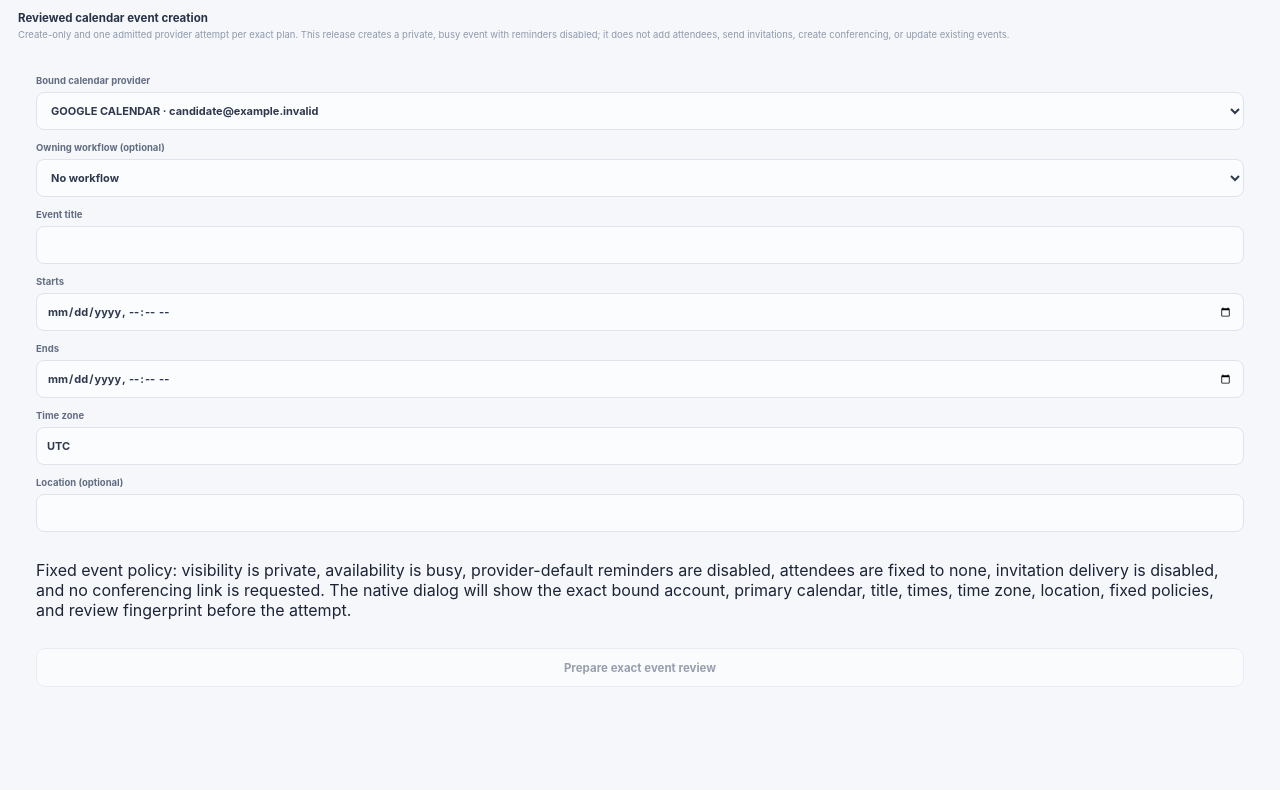
Test case: calendar event panel › requires native review and reports provider acceptance without claiming read-back
Select "Example employer · Software Engineer · workflow-1" in the dropdown labelled "Owning workflow (optional)": (640, 178) [36, 159, 1244, 197]
In the field labelled "Event title": (640, 245) [36, 226, 1244, 264], type "Interview with Example Co"
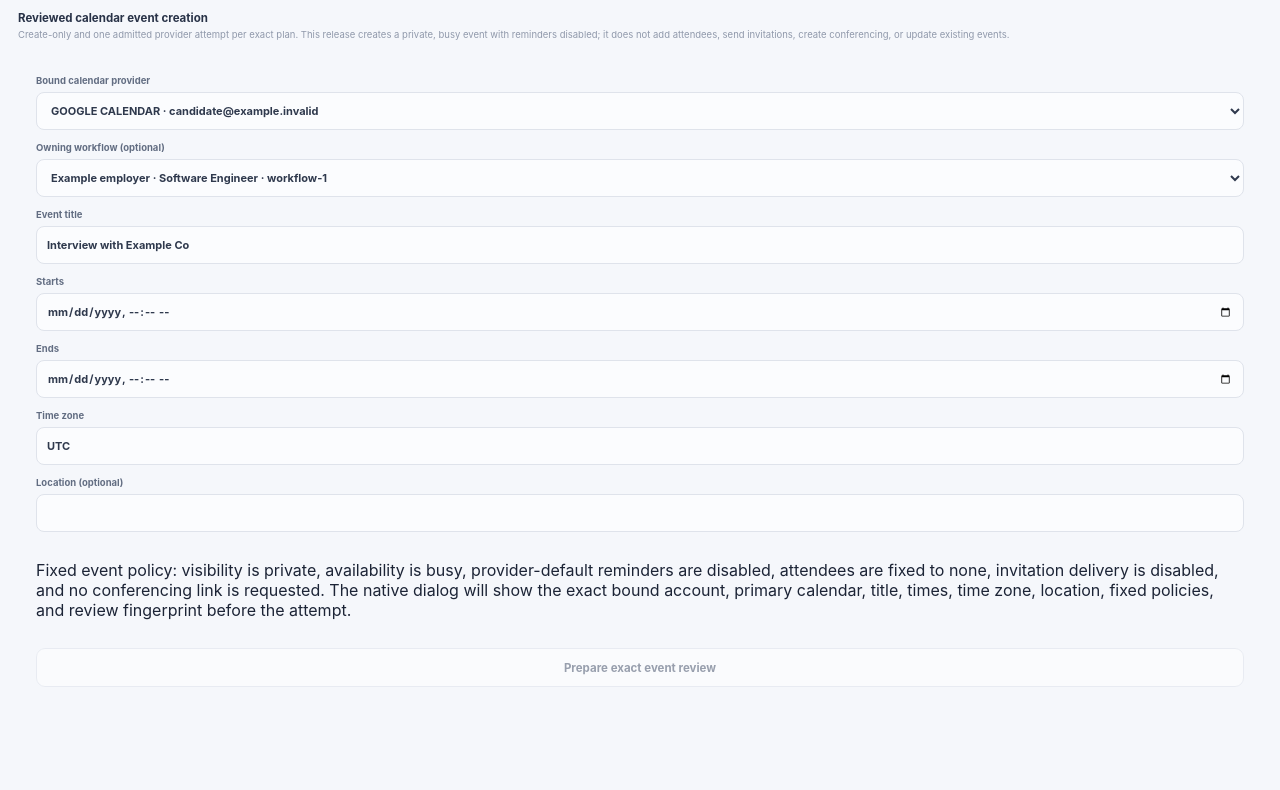
In the field labelled "Starts": (640, 312) [36, 293, 1244, 331], type "2026-10-15T10:00"
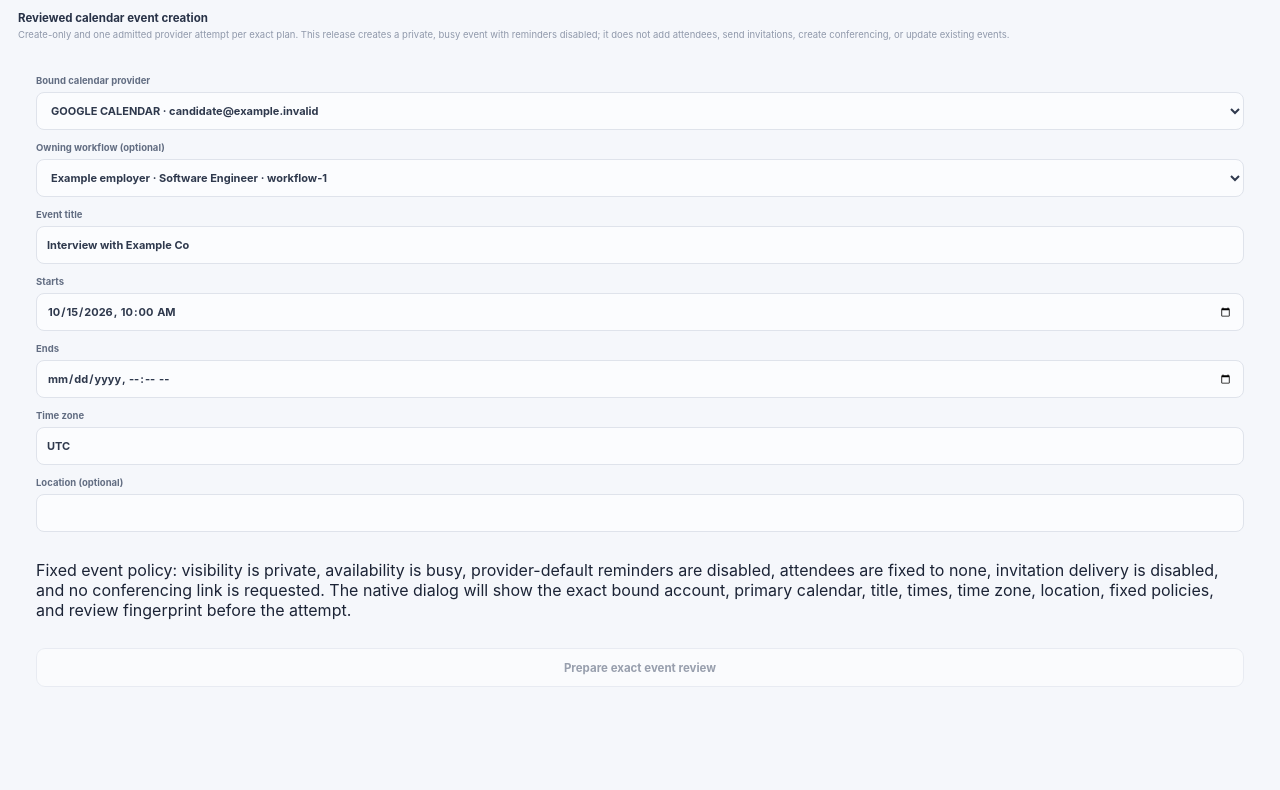
In the field labelled "Ends": (640, 379) [36, 360, 1244, 398], type "2026-10-15T11:00"
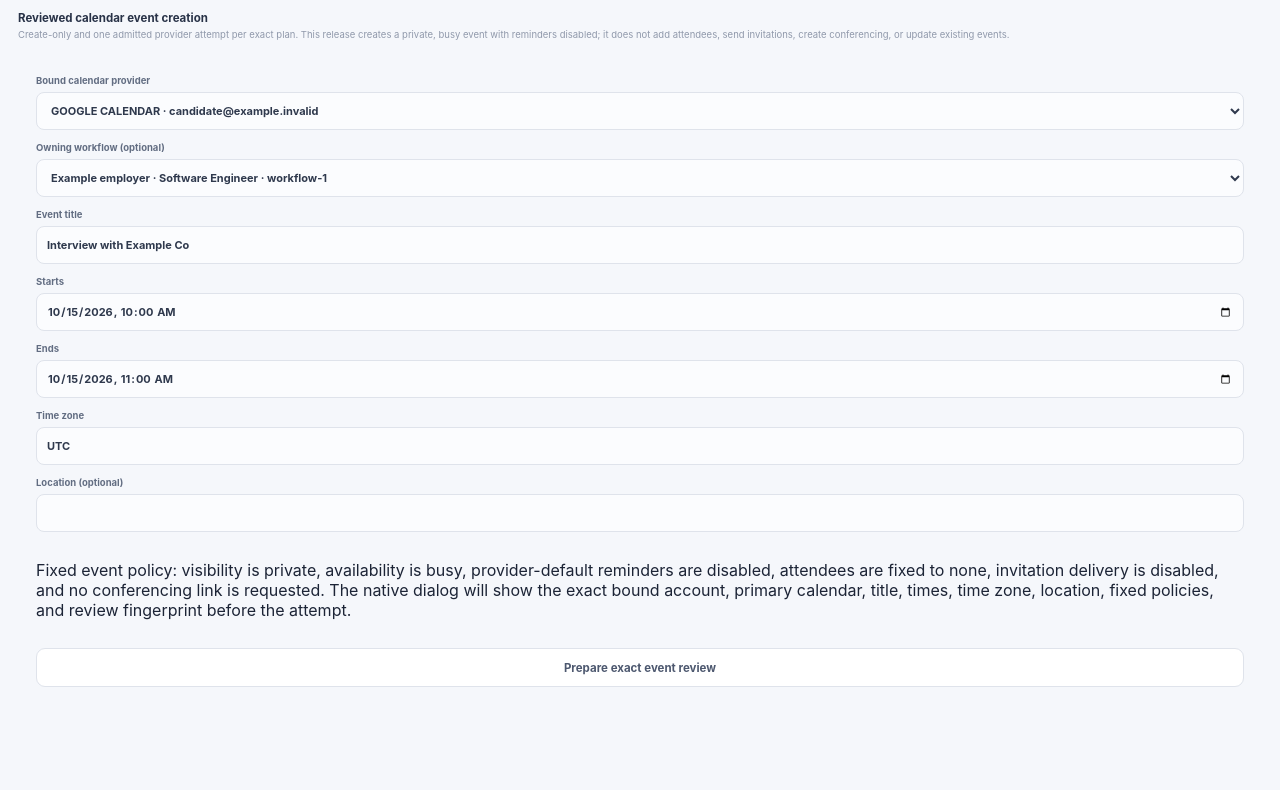
In the field labelled "Location (optional)": (640, 513) [36, 494, 1244, 532], type "Conference room 3"
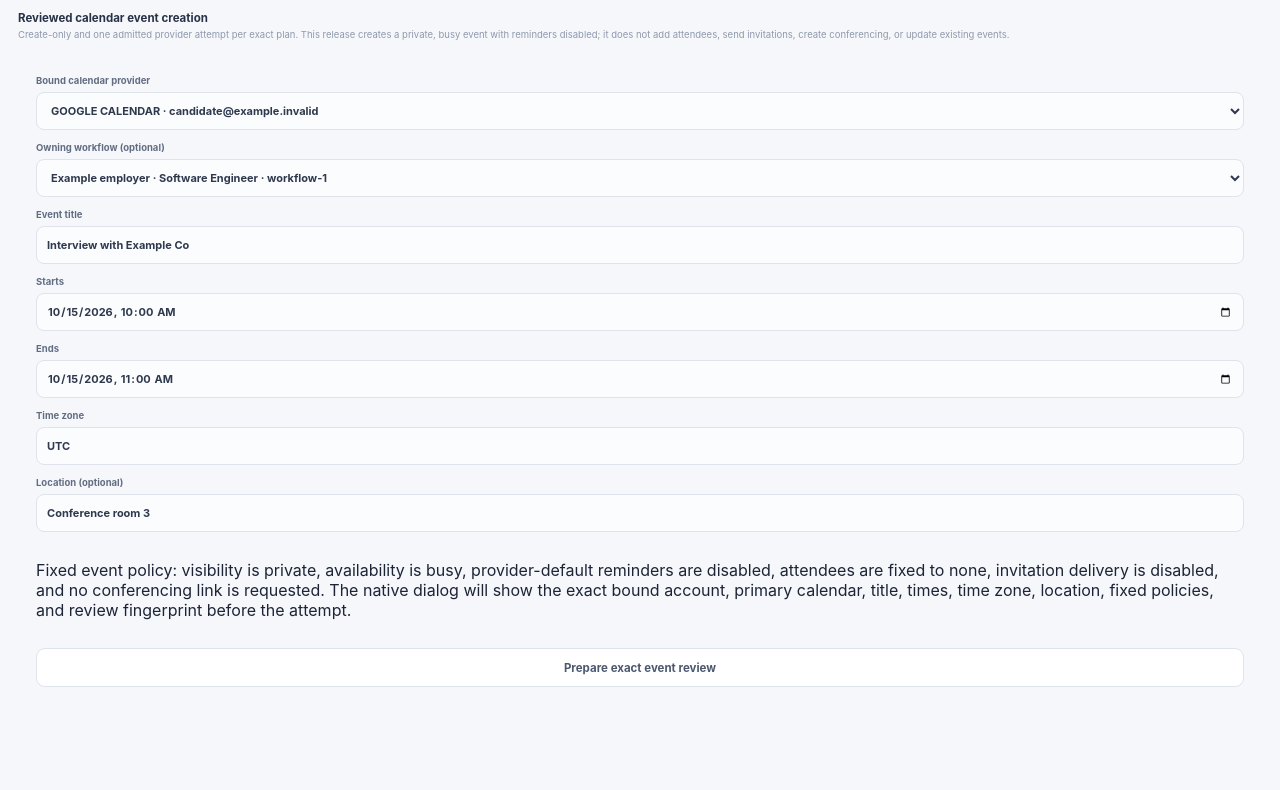
Click the button "Prepare exact event review": (640, 668) [36, 648, 1244, 687]
(page scrolled)
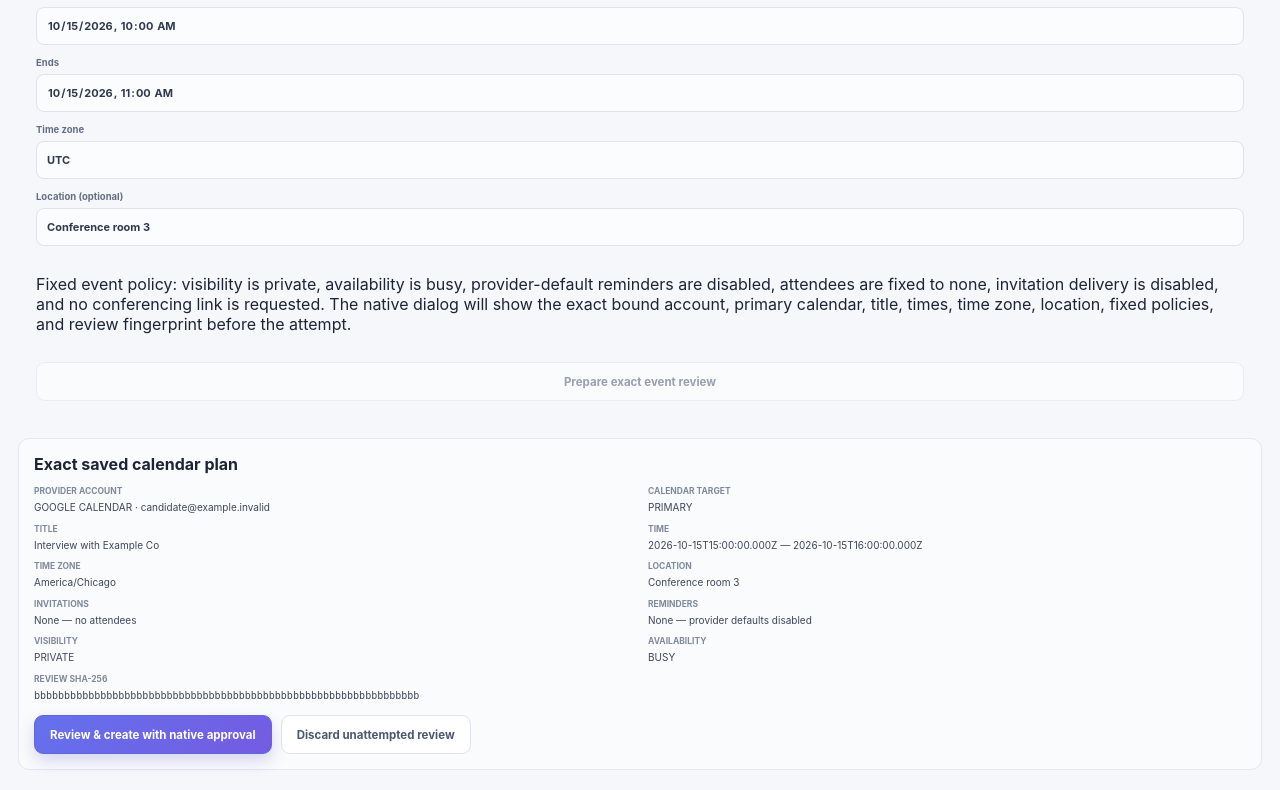
Now the heading "Exact saved calendar plan" is shown, box [34, 454, 238, 474]
Click the button "Review & create with native approval": (153, 734) [34, 715, 272, 754]
(page scrolled)
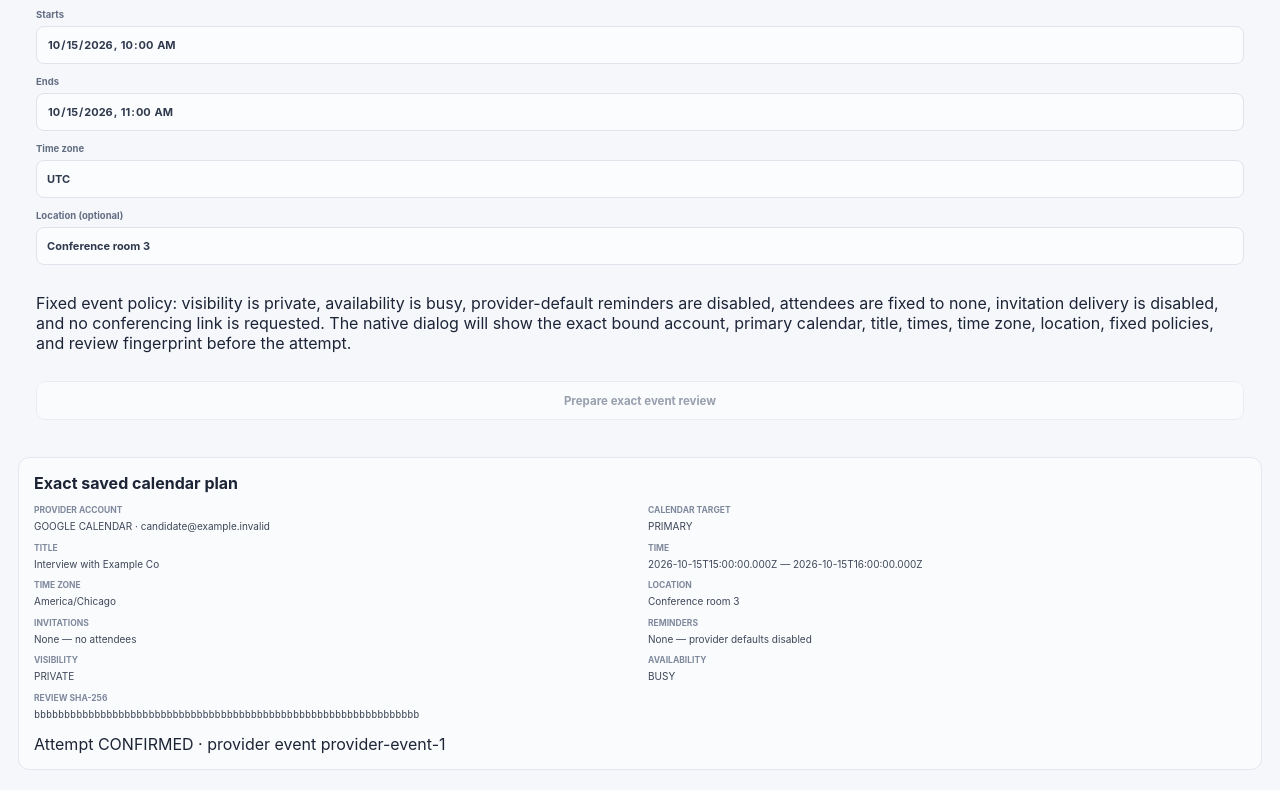
Now the text "Attempt CONFIRMED · provider event provider-event-1" is shown, box [34, 734, 446, 754]
Now the button "Review & create with native approval" is gone
